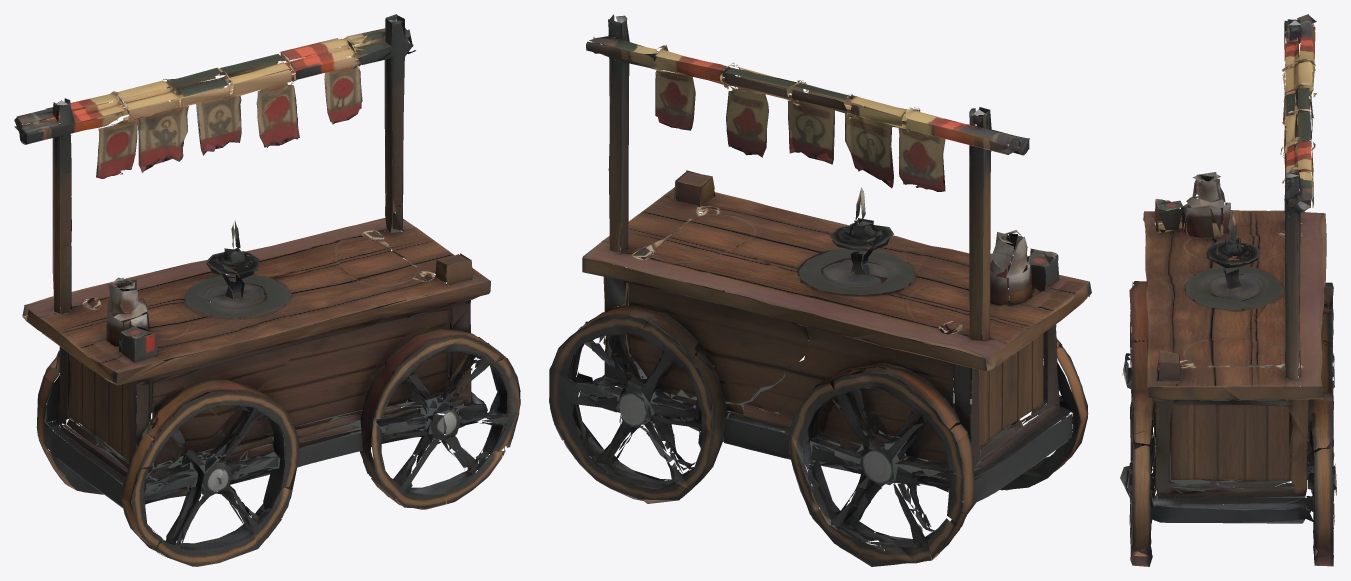
The model's file is shop_cart.glb.
3 views of the same model, side by side, from view 1: azimuth 30°, elevation 25°; view 2: azimuth 150°, elevation 25°; view 3: azimuth 270°, elevation 25° (orthographic). The views are drawn at different scales.
Visible parts, largest first — view 1: Mesh_0.001; view 2: Mesh_0.001; view 3: Mesh_0.001.
Part boxes in pixels (x1,y1,x2,y2): Mesh_0.001: [14, 14, 520, 566]; Mesh_0.001: [549, 14, 1091, 566]; Mesh_0.001: [1120, 14, 1336, 566].
Size of the model in its own units: 2 by 1.95 by 0.9355.
1 material, 1 textured.
